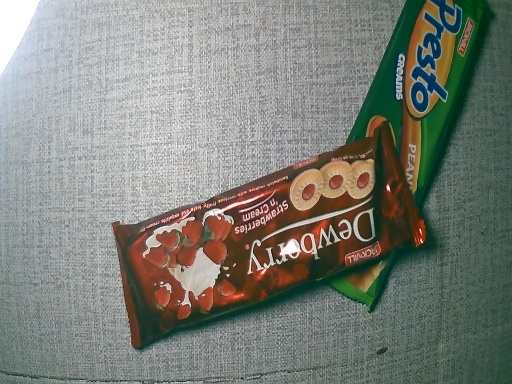plastic: (113, 123, 427, 357), (315, 2, 497, 311)
